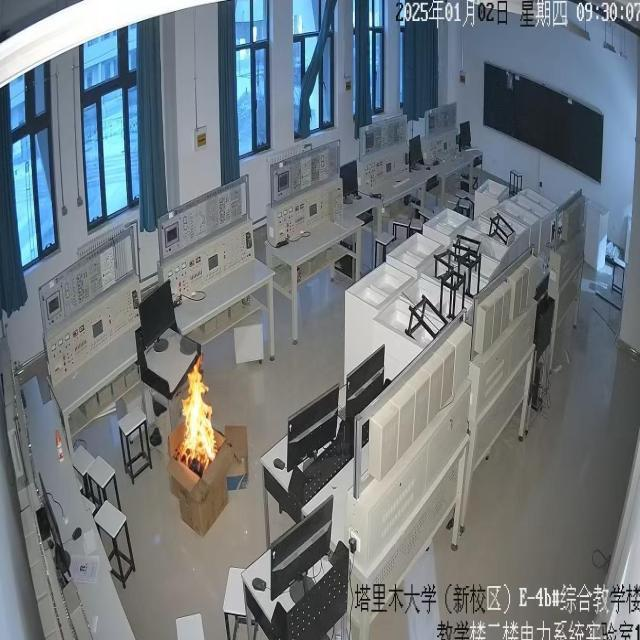smoke: (178, 352, 218, 468), (54, 429, 65, 462)
